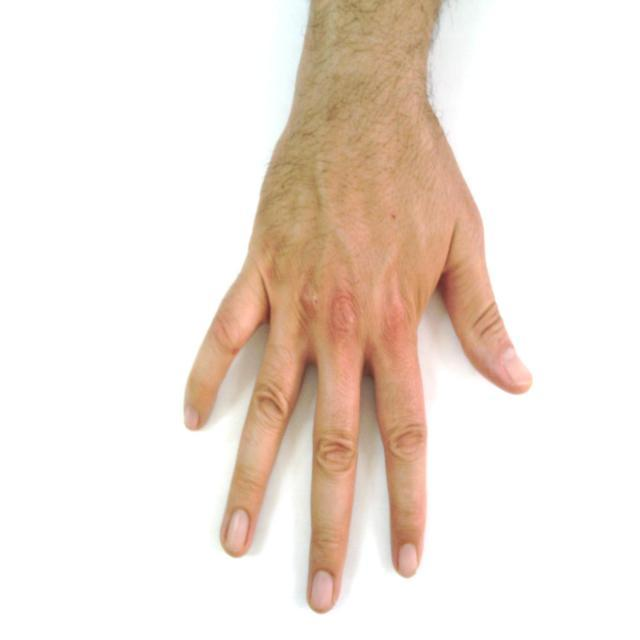Fingernail: (226, 510, 250, 554), (503, 351, 533, 384), (311, 571, 333, 609), (399, 543, 417, 579), (185, 407, 199, 429)
